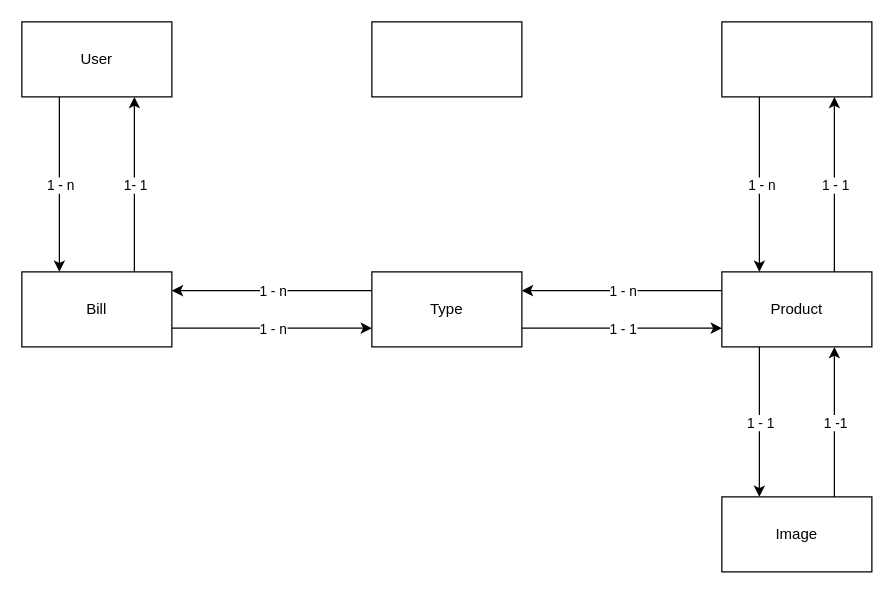
This 894x594 diagram has some shape labels left out. Each missing label, with the centre of its shape:
Admin: the point at 446,59
Manufacturer: the point at 796,59
